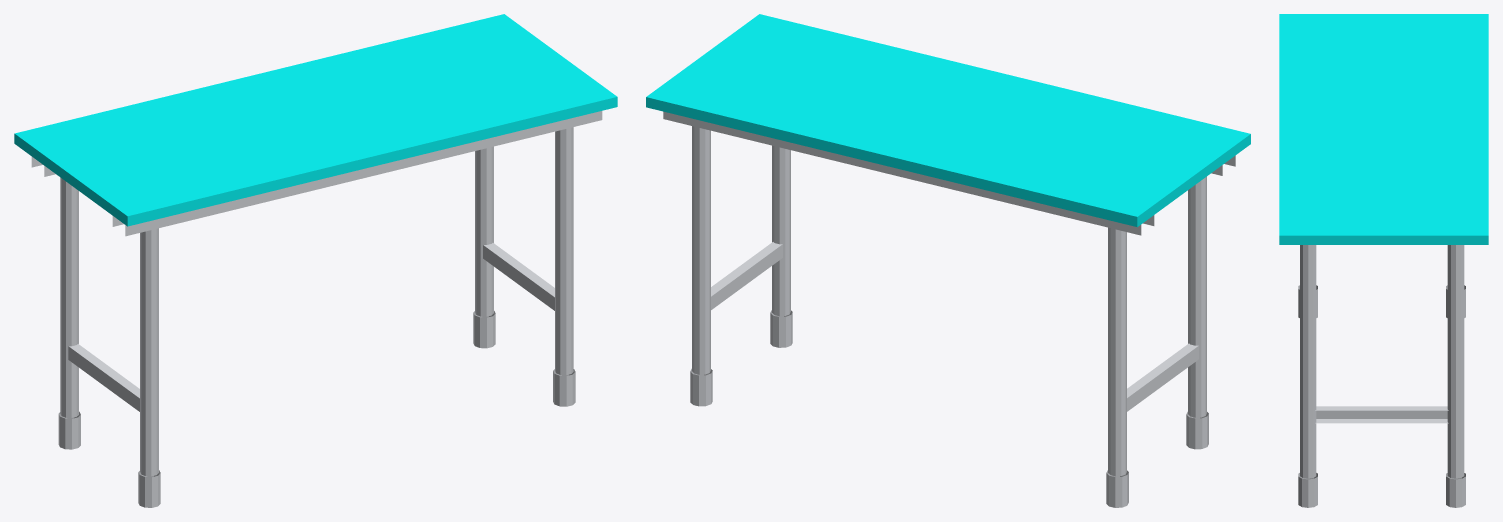
3 renders of one model, left to right at view 1: azimuth 30°, elevation 25°; view 2: azimuth 150°, elevation 25°; view 3: azimuth 270°, elevation 25°, orthographic. The views are drawn at different scales.
Visible parts, largest first — view 1: _509-017.dwg (×12); view 2: _509-017.dwg (×12); view 3: _509-017.dwg (×6).
Boxes of the visible parts, bbox=[...] form: _509-017.dwg (×12): bbox=[14, 14, 617, 507]; _509-017.dwg (×12): bbox=[646, 14, 1250, 507]; _509-017.dwg (×6): bbox=[1279, 14, 1488, 507].
Size of the model in its own units: 59.06 by 23.62 by 35.43.
